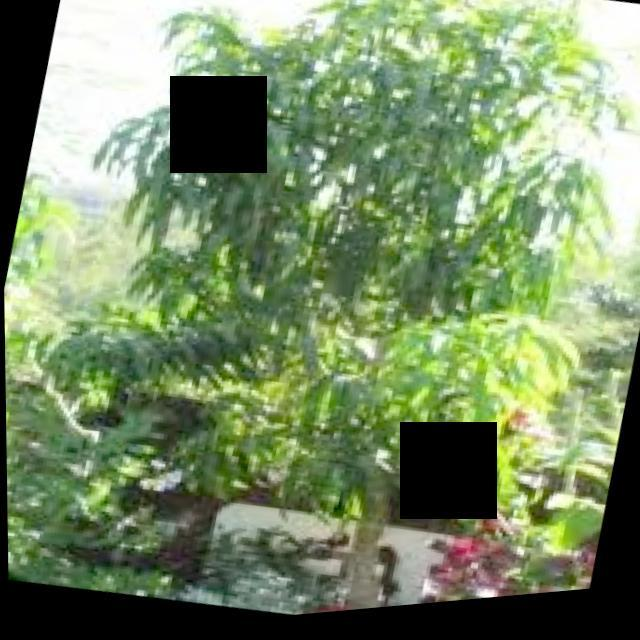Tree: (1, 1, 637, 640)
